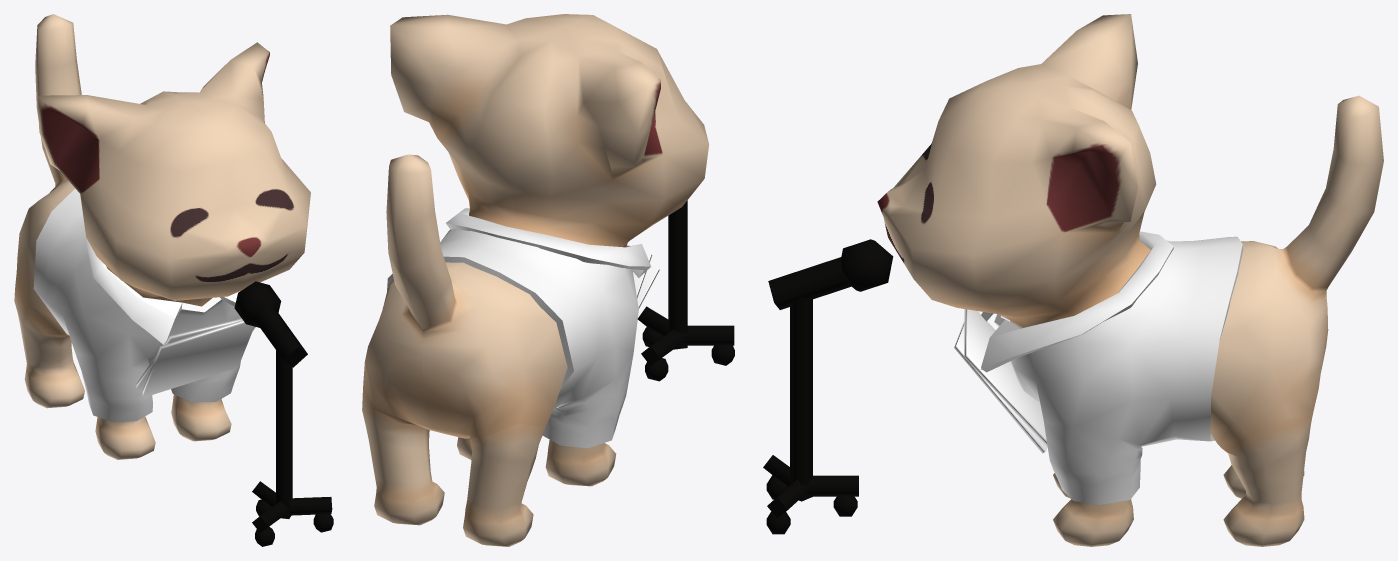
Rendered from Press Cat01.fbx.
The picture shows the model from 3 angles, left to right: view 1: azimuth 30°, elevation 25°; view 2: azimuth 150°, elevation 25°; view 3: azimuth 270°, elevation 25°; orthographic projection. The views are drawn at different scales.
Parts seen in each view (by area): view 1: Cat_Base, Press_Cat_Shirt, Press_Cat_Mic, Press_Cat_Script; view 2: Cat_Base, Press_Cat_Shirt, Press_Cat_Mic, Press_Cat_Script; view 3: Cat_Base, Press_Cat_Shirt, Press_Cat_Mic, Press_Cat_Script.
Boxes of the visible parts, x1,y1,x2,y2 form: Cat_Base: (14, 14, 310, 459); Press_Cat_Shirt: (33, 188, 241, 422); Press_Cat_Mic: (234, 281, 333, 546); Press_Cat_Script: (136, 318, 255, 397); Cat_Base: (362, 14, 709, 546); Press_Cat_Shirt: (387, 208, 650, 448); Press_Cat_Mic: (637, 200, 734, 381); Press_Cat_Script: (633, 252, 659, 309); Cat_Base: (877, 14, 1383, 546); Press_Cat_Shirt: (981, 231, 1243, 504); Press_Cat_Mic: (763, 239, 893, 534); Press_Cat_Script: (954, 309, 1047, 453).
Bounding box in the file's own units: 1.75 × 3.47 × 2.68.
3 materials, 1 textured.
